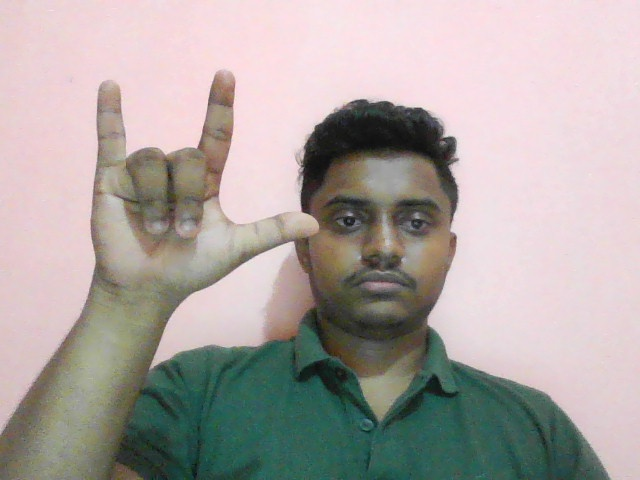I Love You: (79, 66, 323, 312)
